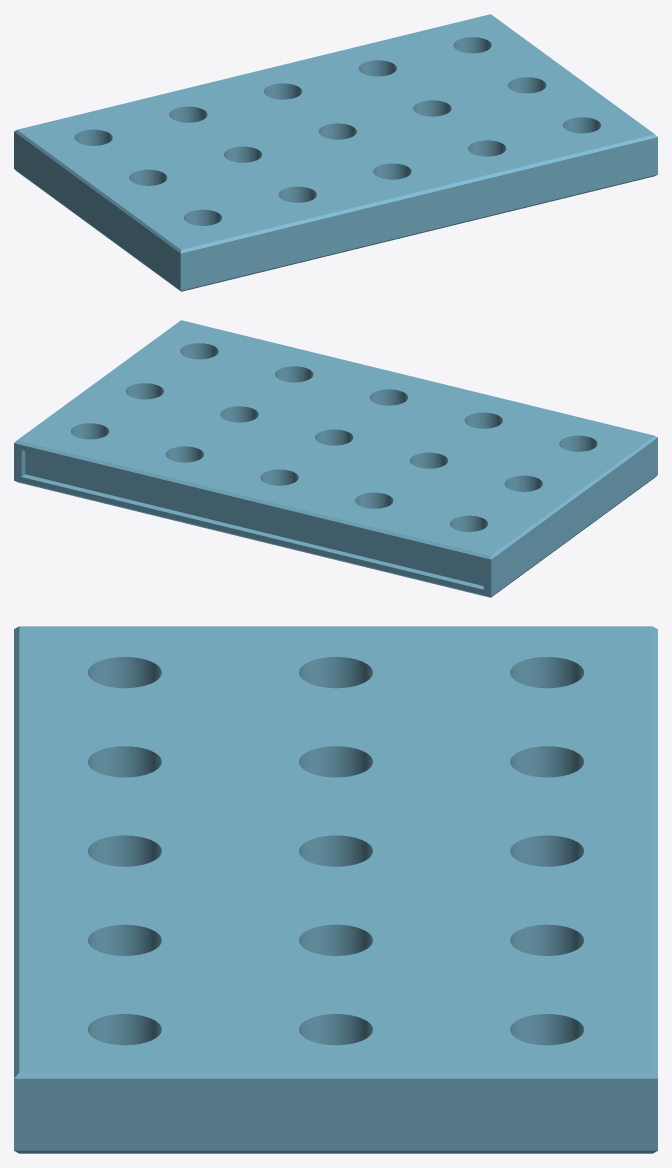
Rendered from stand.fbx.
The picture shows the model from 3 angles, top to bottom: view 1: azimuth 30°, elevation 25°; view 2: azimuth 150°, elevation 25°; view 3: azimuth 270°, elevation 25°; orthographic projection. The views are drawn at different scales.
Parts seen in each view (by area): view 1: stand; view 2: stand; view 3: stand.
Part boxes in pixels (x1=…): stand: x1=14, y1=14, x2=657, y2=291; stand: x1=14, y1=320, x2=657, y2=597; stand: x1=14, y1=626, x2=657, y2=1153.
Size of the model in its own units: 30.22 by 2.54 by 18.3.
